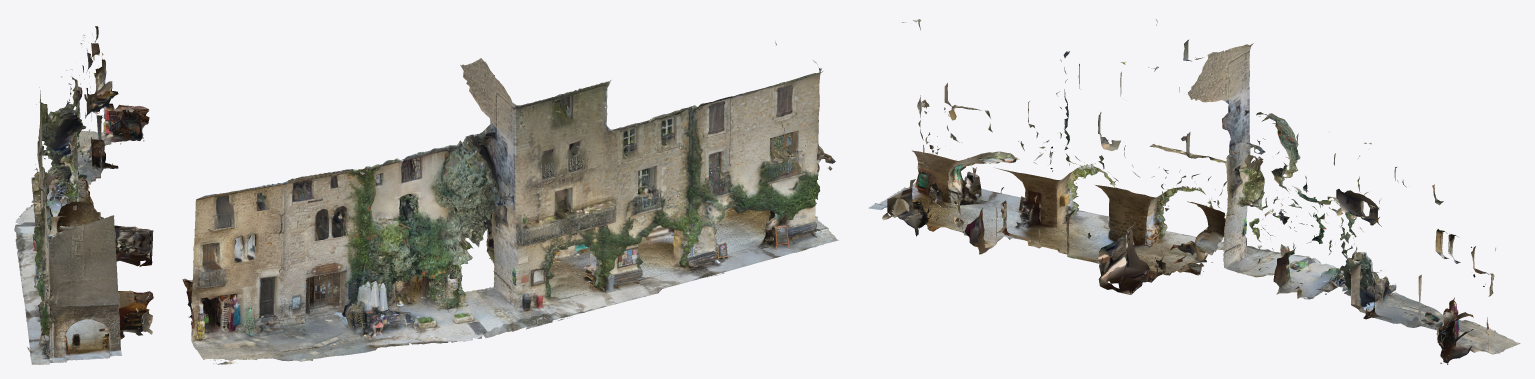
Rendered from medium.glb.
3 renders of one model, left to right at view 1: azimuth 30°, elevation 25°; view 2: azimuth 150°, elevation 25°; view 3: azimuth 270°, elevation 25°, orthographic. The views are drawn at different scales.
Parts seen in each view (by area): view 1: medium.002; view 2: medium.002; view 3: medium.002.
Boxes of the visible parts, x1=… form: medium.002: x1=14, y1=26, x2=153, y2=364; medium.002: x1=182, y1=41, x2=838, y2=364; medium.002: x1=868, y1=19, x2=1520, y2=364.
Bounding box in the file's own units: 23.62 × 12.94 × 32.21.
1 material, 1 textured.
